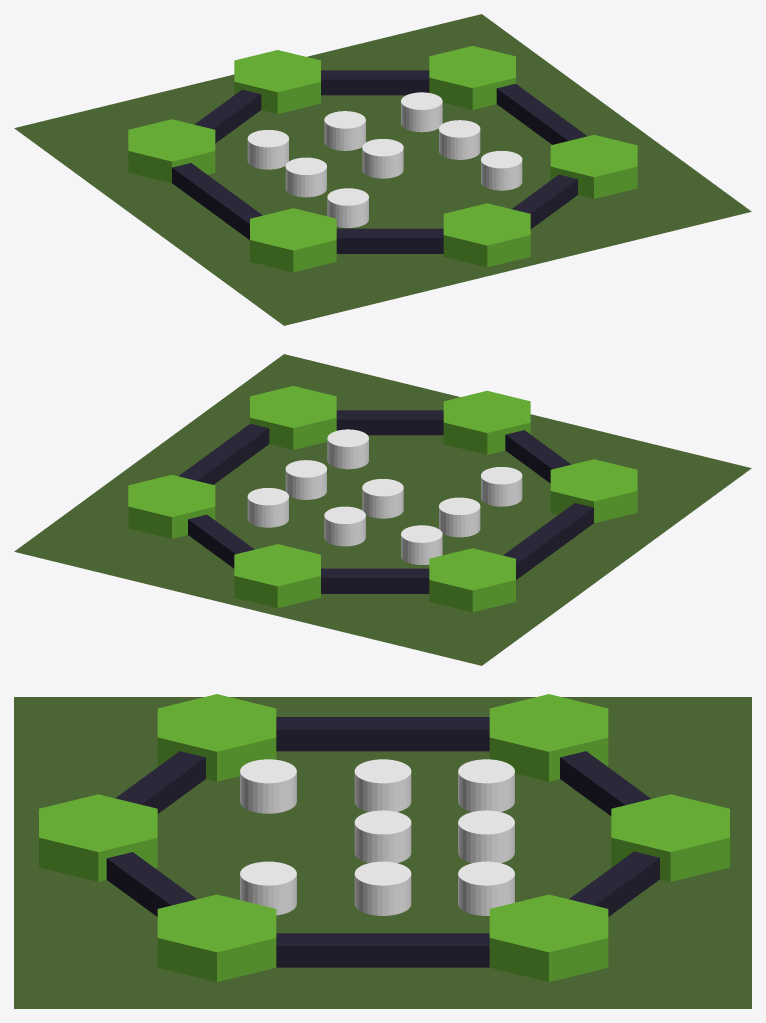
Rendered from turtleroom_v2.dae.
3 views of the same model, one above another, from view 1: azimuth 30°, elevation 25°; view 2: azimuth 150°, elevation 25°; view 3: azimuth 270°, elevation 25° (orthographic). The views are drawn at different scales.
Visible parts, largest first — view 1: room; view 2: room; view 3: room.
Part boxes in pixels (left/top/right/bottom): room: left=14, top=14, right=751, bottom=325; room: left=14, top=354, right=751, bottom=665; room: left=14, top=694, right=751, bottom=1008.
Bounding box in the file's own units: 9.34 × 9.34 × 0.4303.
Materials: 1 (1 with a texture image).
